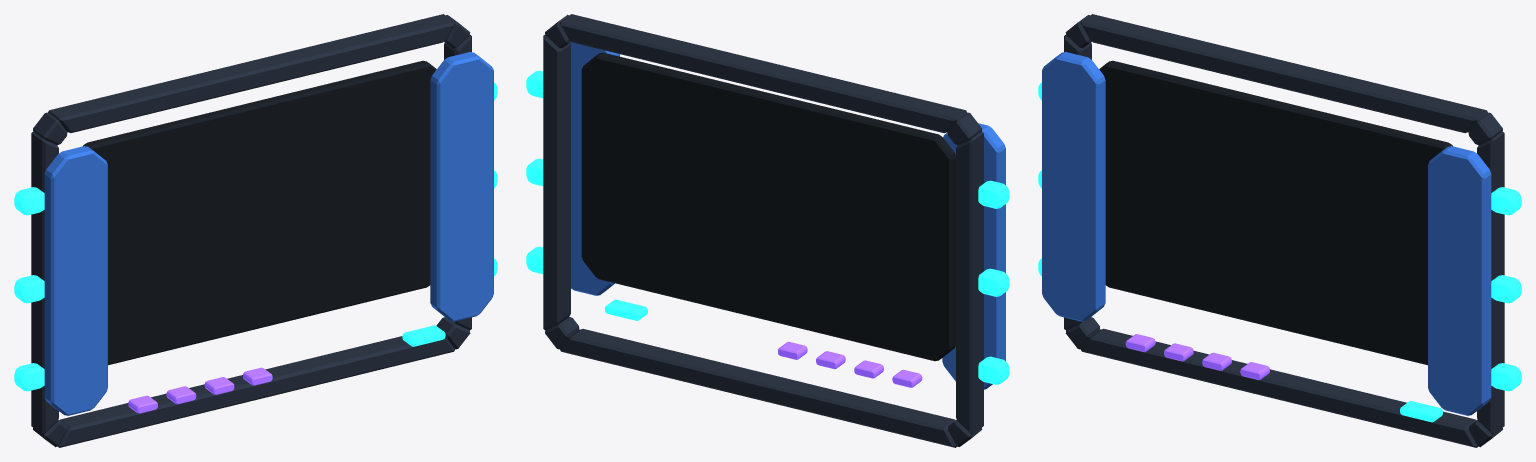
File: project-module.glb
The picture shows the model from 3 angles, left to right: view 1: azimuth 30°, elevation 25°; view 2: azimuth 150°, elevation 25°; view 3: azimuth 330°, elevation 25°; orthographic projection.
Parts seen in each view (by area): view 1: project-module_PanelMaterial, project-module_SystemMaterial, Shutter_right, Shutter_left, project-module_SignalMaterial, project-module_AccentMaterial; view 2: project-module_PanelMaterial, project-module_SystemMaterial, Shutter_left, project-module_SignalMaterial, Shutter_right, project-module_AccentMaterial; view 3: project-module_PanelMaterial, project-module_SystemMaterial, Shutter_left, Shutter_right, project-module_SignalMaterial, project-module_AccentMaterial.
Part boxes in pixels (box(x1,y1,x2,y2)): project-module_PanelMaterial: box(83, 60, 436, 365); project-module_SystemMaterial: box(31, 14, 471, 447); Shutter_right: box(430, 52, 493, 321); Shutter_left: box(44, 146, 107, 415); project-module_SignalMaterial: box(14, 82, 497, 391); project-module_AccentMaterial: box(128, 367, 272, 413); project-module_PanelMaterial: box(581, 52, 955, 361); project-module_SystemMaterial: box(543, 14, 983, 447); Shutter_left: box(942, 123, 1005, 389); project-module_SignalMaterial: box(526, 70, 1009, 384); Shutter_right: box(570, 42, 619, 295); project-module_AccentMaterial: box(778, 341, 922, 387); project-module_PanelMaterial: box(1099, 60, 1452, 365); project-module_SystemMaterial: box(1064, 14, 1504, 447); Shutter_left: box(1042, 52, 1105, 321); Shutter_right: box(1428, 146, 1491, 415); project-module_SignalMaterial: box(1038, 82, 1521, 422); project-module_AccentMaterial: box(1125, 334, 1269, 379).
Bounding box in the file's own units: 2.49 × 1.65 × 0.265.
